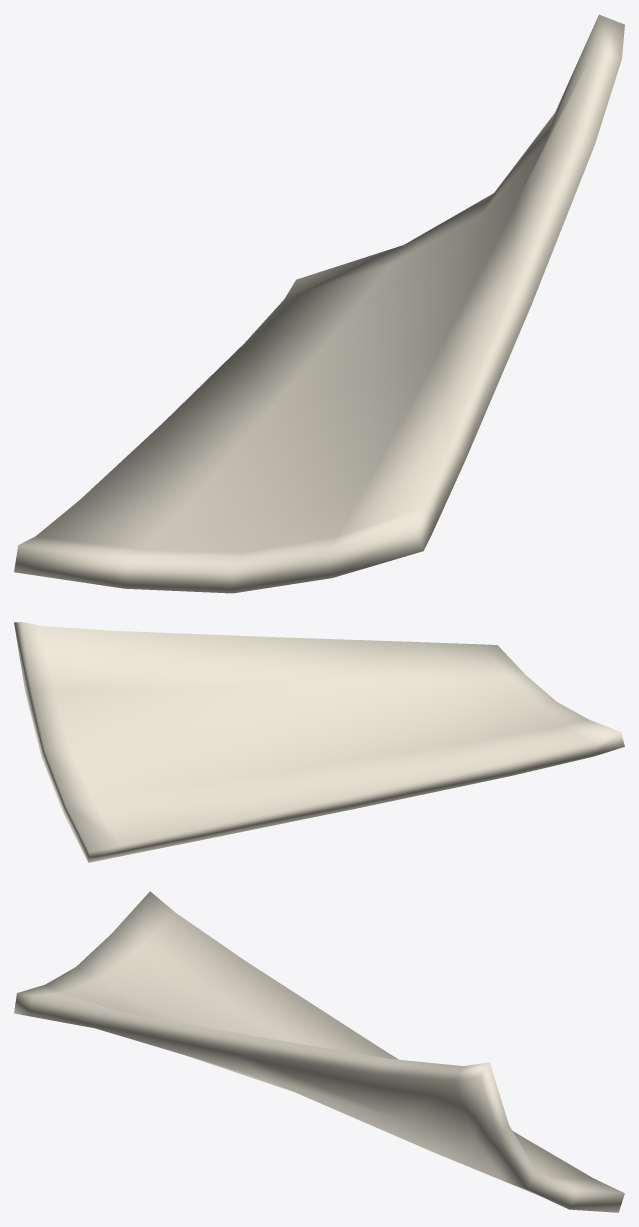
3 views of the same model, one above another, from view 1: azimuth 30°, elevation 25°; view 2: azimuth 150°, elevation 25°; view 3: azimuth 270°, elevation 25° (orthographic). The views are drawn at different scales.
Parts seen in each view (by area): view 1: ZA_4512401ac261b72e; view 2: ZA_4512401ac261b72e; view 3: ZA_4512401ac261b72e.
Part boxes in pixels (left/top/right/bottom): ZA_4512401ac261b72e: left=14, top=14, right=624, bottom=593; ZA_4512401ac261b72e: left=14, top=622, right=624, bottom=862; ZA_4512401ac261b72e: left=14, top=891, right=624, bottom=1212.
Bounding box in the file's own units: 0.017 × 0.00593 × 0.0147.
